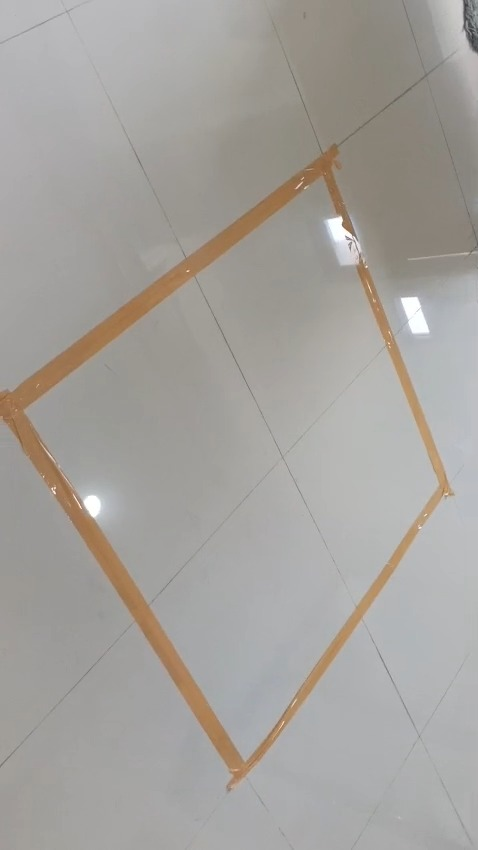floor marking: (0, 145, 453, 789), (280, 204, 280, 205)
